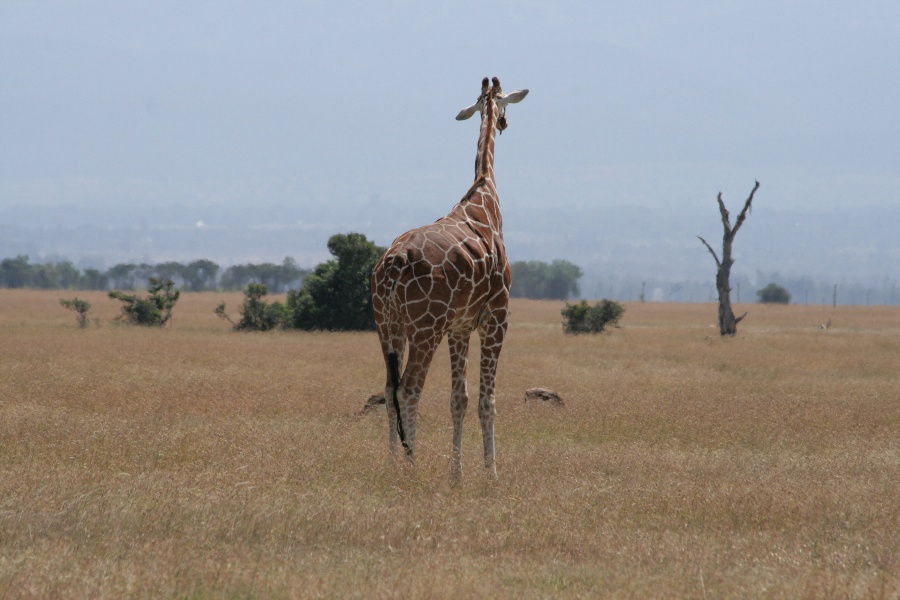giraffe: (364, 68, 534, 489)
